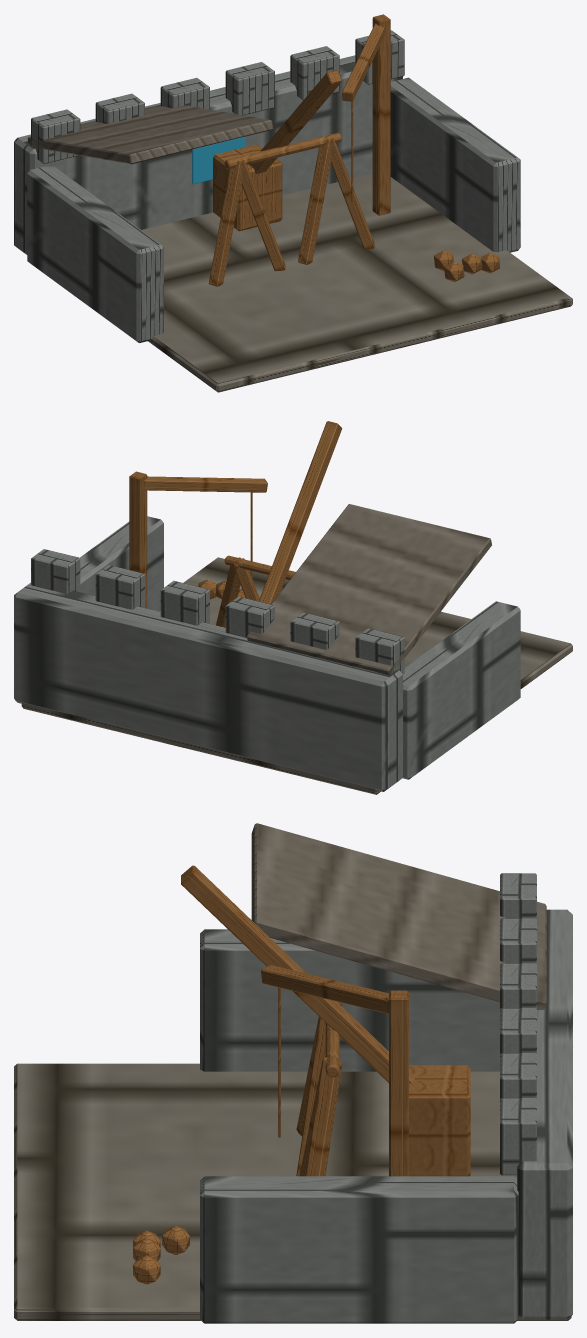
File: edificio-b_016-e2-BahU90xl.glb
3 views of the same model, one above another, from view 1: azimuth 30°, elevation 25°; view 2: azimuth 150°, elevation 25°; view 3: azimuth 270°, elevation 25° (orthographic). The views are drawn at different scales.
Visible parts, largest first — view 1: envolvente_fabrica_asedio_e2, mecanismo_fabrica_asedio_e2, team_color; view 2: envolvente_fabrica_asedio_e2, mecanismo_fabrica_asedio_e2; view 3: envolvente_fabrica_asedio_e2, mecanismo_fabrica_asedio_e2.
Boxes of the visible parts, <box> form: envolvente_fabrica_asedio_e2: <box>14,30,572,392</box>; mecanismo_fabrica_asedio_e2: <box>209,14,500,286</box>; team_color: <box>192,136,245,184</box>; envolvente_fabrica_asedio_e2: <box>14,504,572,794</box>; mecanismo_fabrica_asedio_e2: <box>129,421,342,627</box>; envolvente_fabrica_asedio_e2: <box>14,823,572,1323</box>; mecanismo_fabrica_asedio_e2: <box>133,865,470,1284</box>.
Bounding box in the file's own units: 47.4 × 27.41 × 42.1.
2 materials, 1 textured.
